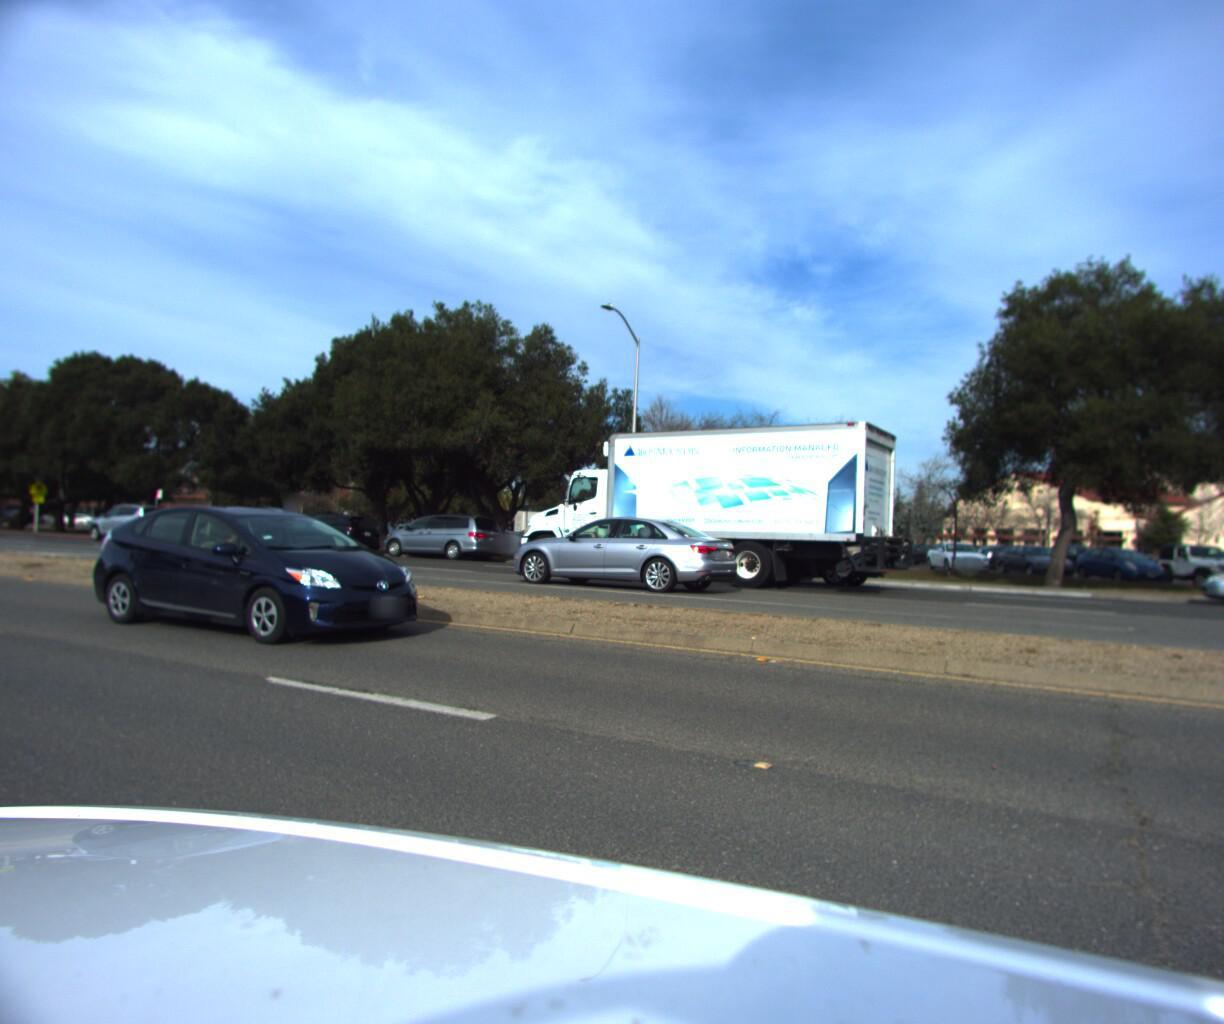car: (83, 504, 448, 660), (497, 514, 754, 597), (690, 518, 888, 588), (367, 513, 510, 566), (264, 514, 386, 559), (78, 503, 185, 546), (1187, 538, 1224, 620)
truck: (505, 413, 926, 600)
